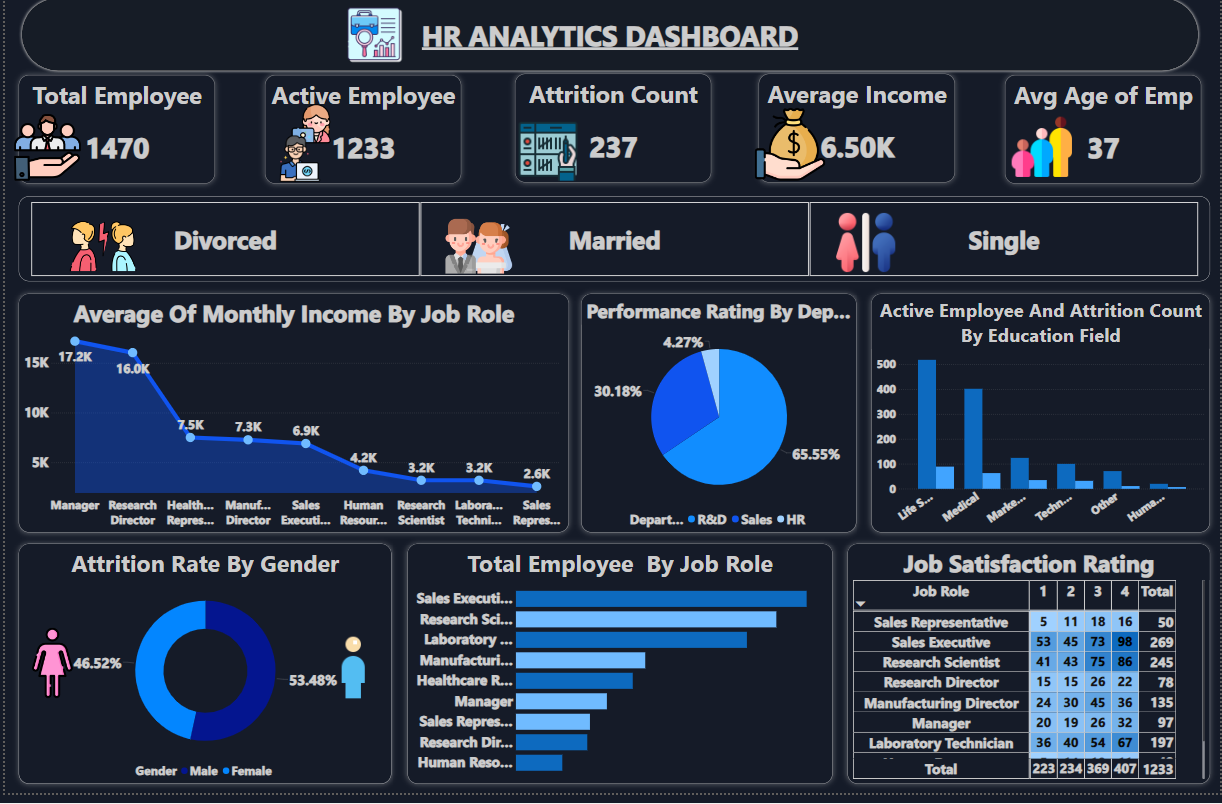

The page's visual inventory and layout, read from the dashboard file:
{"tool":"powerbi","page":{"name":"Page 1","canvas":[3500,2300],"ordinal":0},"visuals":[{"type":"card","title":"Active Employee","fields":{"Values":["hr data.active employee"]},"box":[748.7,230.4,565.1,313.1],"z":0},{"type":"card","title":"Average Income","fields":{"Values":["Avg(hr data.Monthly Income)"]},"box":[2170.4,226.8,565.1,313.1],"z":1000},{"type":"card","title":"Total Employee","fields":{"Values":["Sum(hr data.Employee Count)"]},"box":[39.6,230.4,565.1,313.1],"z":2000},{"type":"card","title":"Avg Age of Emp","fields":{"Values":["Avg(hr data.Age)"]},"box":[2879.5,230.4,565.1,313.1],"z":3000},{"type":"card","title":"Attrition Count","fields":{"Values":["Sum(hr data.attrition count)"]},"box":[1468.5,226.8,565.1,313.1],"z":4000},{"type":"slicer","title":"Marital Status","fields":{"Values":["hr data.Marital Status"]},"box":[39.6,579.5,3430.2,244.8],"z":6000},{"type":"donutChart","title":"Attrition Rate By Gender","fields":{"Category":["hr data.Gender"],"Y":["hr data.attrition rate"]},"box":[39.6,1580.1,1072.6,691.1],"z":7000},{"type":"areaChart","title":"Average Of Monthly Income By Job Role","fields":{"Category":["hr data.Job Role"],"Y":["Avg(hr data.Monthly Income)"]},"box":[39.6,860.3,1583.7,687.5],"z":7001},{"type":"pieChart","title":"Performance Rating By Department","fields":{"Category":["hr data.Department"],"Y":["Sum(hr data.Performance Rating)"]},"box":[1659.3,860.3,791.9,687.5],"z":7002},{"type":"clusteredBarChart","title":"Total Employee  By Job Role","fields":{"Y":["Sum(hr data.Employee Count)"],"Category":["hr data.Job Role"]},"box":[1159,1580.1,1223.8,691.1],"z":7003},{"type":"pivotTable","title":"Job Satisfaction Rating","fields":{"Columns":["hr data.Job Satisfaction"],"Rows":["hr data.Job Role"],"Values":["hr data.active employee"]},"box":[2426,1580.1,1043.8,691.1],"z":7004},{"type":"clusteredColumnChart","title":"Active Employee And  Attrition Count By Education Field","fields":{"Category":["hr data.Education Field"],"Y":["hr data.active employee","Sum(hr data.attrition count)"]},"box":[2494.4,860.3,975.4,687.5],"z":7005},{"type":"image","box":[14.4,1817.7,244.8,212.4],"z":7006},{"type":"image","box":[845.9,1842.9,313.1,187.2],"z":7007},{"type":"image","box":[100.8,622.7,363.5,201.6],"z":7008},{"type":"image","box":[1184.2,622.7,359.9,201.6],"z":7009},{"type":"image","box":[2296.4,622.7,363.5,180],"z":7011},{"type":"shape","box":[39.6,0,3405,226.8],"z":7012},{"type":"image","box":[2893.9,280.8,183.6,313.1],"z":7013},{"type":"image","box":[2138,320.3,244.8,219.6],"z":7014},{"type":"image","box":[788.3,309.5,187.2,122.4],"z":7015},{"type":"image","box":[665.9,388.7,367.1,154.8],"z":7016},{"type":"image","box":[21.6,327.5,201.6,223.2],"z":7017},{"type":"image","box":[1468.5,320.3,190.8,259.2],"z":7018},{"type":"image","box":[881.8,28.8,367.1,172.8],"z":7019}]}

Visuals, with their boxes in screenshot pixels (x1, y1, x2, y2), scaled from the page's 3500x2300 canvas onto the 1222x804 screenshot:
"Active Employee" card: {"left": 261, "top": 81, "right": 459, "bottom": 190}
"Average Income" card: {"left": 758, "top": 79, "right": 955, "bottom": 189}
"Total Employee" card: {"left": 14, "top": 81, "right": 211, "bottom": 190}
"Avg Age of Emp" card: {"left": 1005, "top": 81, "right": 1203, "bottom": 190}
"Attrition Count" card: {"left": 513, "top": 79, "right": 710, "bottom": 189}
"Marital Status" slicer: {"left": 14, "top": 203, "right": 1211, "bottom": 288}
"Attrition Rate By Gender" donutChart: {"left": 14, "top": 552, "right": 388, "bottom": 794}
"Average Of Monthly Income By Job Role" areaChart: {"left": 14, "top": 301, "right": 567, "bottom": 541}
"Performance Rating By Department" pieChart: {"left": 579, "top": 301, "right": 856, "bottom": 541}
"Total Employee  By Job Role" clusteredBarChart: {"left": 405, "top": 552, "right": 832, "bottom": 794}
"Job Satisfaction Rating" pivotTable: {"left": 847, "top": 552, "right": 1211, "bottom": 794}
"Active Employee And  Attrition Count By Education Field" clusteredColumnChart: {"left": 871, "top": 301, "right": 1211, "bottom": 541}
image: {"left": 5, "top": 635, "right": 90, "bottom": 710}
image: {"left": 295, "top": 644, "right": 405, "bottom": 710}
image: {"left": 35, "top": 218, "right": 162, "bottom": 288}
image: {"left": 413, "top": 218, "right": 539, "bottom": 288}
image: {"left": 802, "top": 218, "right": 929, "bottom": 281}
shape: {"left": 14, "top": 0, "right": 1203, "bottom": 79}
image: {"left": 1010, "top": 98, "right": 1074, "bottom": 208}
image: {"left": 746, "top": 112, "right": 832, "bottom": 189}
image: {"left": 275, "top": 108, "right": 341, "bottom": 151}
image: {"left": 232, "top": 136, "right": 361, "bottom": 190}
image: {"left": 8, "top": 114, "right": 78, "bottom": 193}
image: {"left": 513, "top": 112, "right": 579, "bottom": 203}
image: {"left": 308, "top": 10, "right": 436, "bottom": 70}
